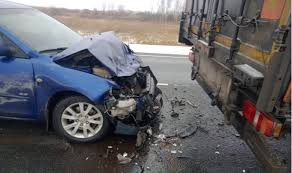car: (2, 2, 187, 150)
